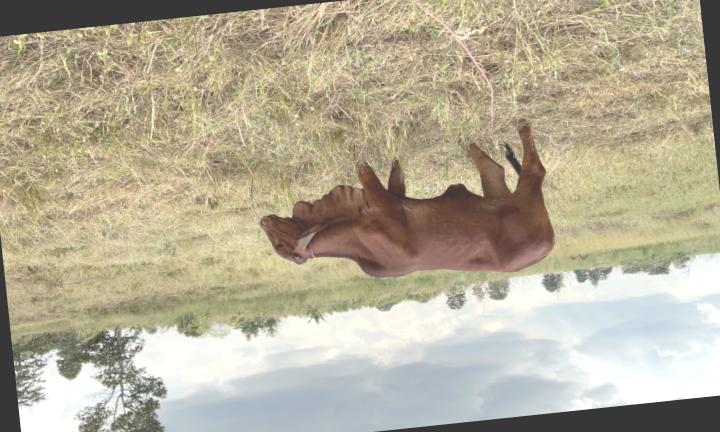Brahman: (261, 126, 555, 278)
